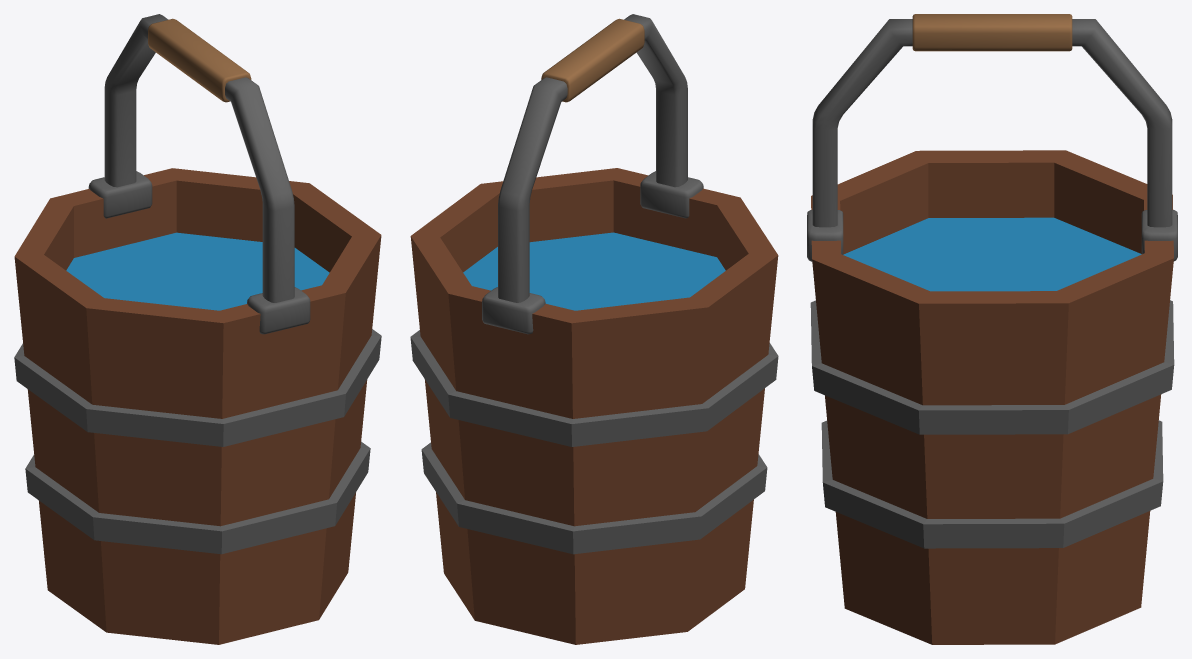
The model's file is prop13.fbx.
The picture shows the model from 3 angles, left to right: view 1: azimuth 30°, elevation 25°; view 2: azimuth 150°, elevation 25°; view 3: azimuth 270°, elevation 25°; orthographic projection. The views are drawn at different scales.
Visible parts, largest first — view 1: Cylinder.023; view 2: Cylinder.023; view 3: Cylinder.023.
Part boxes in pixels (bbox=[...]): Cylinder.023: bbox=[14, 14, 381, 644]; Cylinder.023: bbox=[410, 14, 778, 644]; Cylinder.023: bbox=[807, 14, 1177, 644].
Bounding box in the file's own units: 0.378 × 0.3854 × 0.6464.
